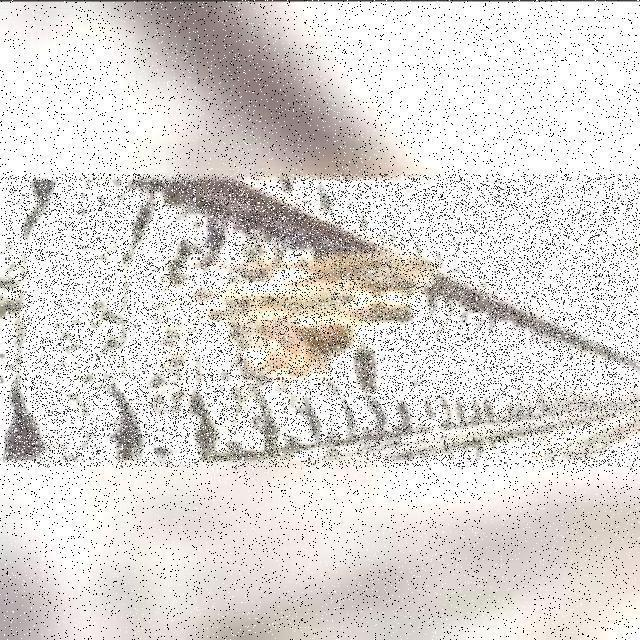rail: (7, 175, 639, 468)
